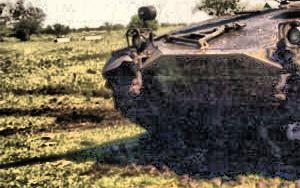tanks: (104, 1, 300, 145)
